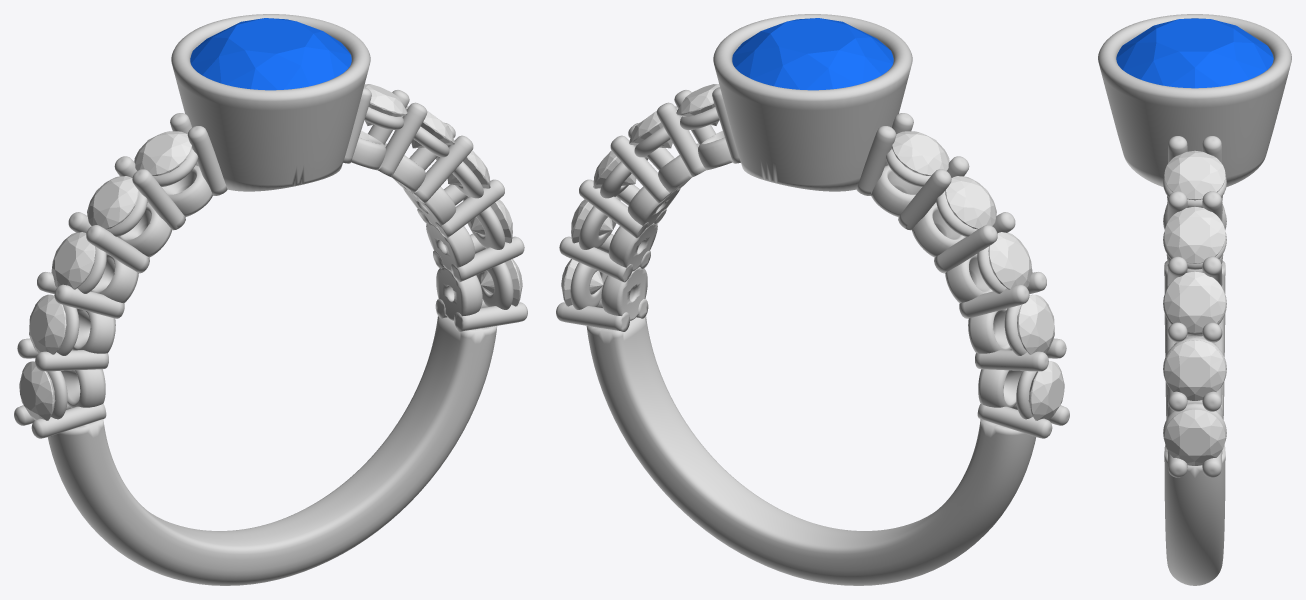
Rendered from bluesapphire-round-platinum-bezelset-straightband-5stone.glb.
3 renders of one model, left to right at view 1: azimuth 30°, elevation 25°; view 2: azimuth 150°, elevation 25°; view 3: azimuth 270°, elevation 25°, orthographic. The views are drawn at different scales.
Visible parts, largest first — view 1: metal, stone, side.006, side.007, side.005, side.008, side.009, side, side.004, side.001, side.003; view 2: metal, stone, side.006, side.007, side.005, side.008, side.009, side, side.004, side.001, side.003; view 3: metal, stone, side.003, side.002, side.001, side.004, side.
Part boxes in pixels (box(x1,y1,x2,y2)): metal: box(14, 14, 527, 585); stone: box(190, 18, 351, 90); side.006: box(87, 176, 138, 229); side.007: box(51, 232, 95, 289); side.005: box(134, 131, 191, 175); side.008: box(29, 294, 66, 354); side.009: box(19, 361, 55, 420); side: box(364, 84, 407, 125); side.004: box(480, 259, 522, 306); side.001: box(405, 106, 454, 148); side.003: box(471, 199, 512, 243); metal: box(556, 14, 1069, 585); stone: box(732, 18, 893, 90); side.006: box(945, 176, 996, 229); side.007: box(988, 232, 1032, 289); side.005: box(892, 131, 949, 175); side.008: box(1017, 294, 1054, 354); side.009: box(1028, 361, 1064, 420); side: box(676, 84, 719, 125); side.004: box(561, 259, 603, 306); side.001: box(629, 106, 678, 148); side.003: box(571, 199, 612, 243); metal: box(1098, 14, 1291, 585); stone: box(1116, 18, 1273, 88); side.003: box(1164, 340, 1225, 400); side.002: box(1164, 271, 1225, 332); side.001: box(1164, 207, 1225, 263); side.004: box(1164, 409, 1225, 465); side: box(1164, 150, 1225, 200).
Bounding box in the file's own units: 22.63 × 23.81 × 7.94.
